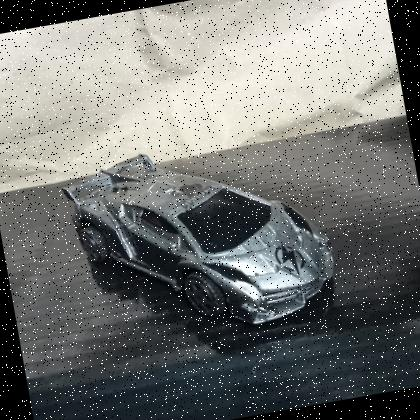Car: (63, 155, 335, 326)
